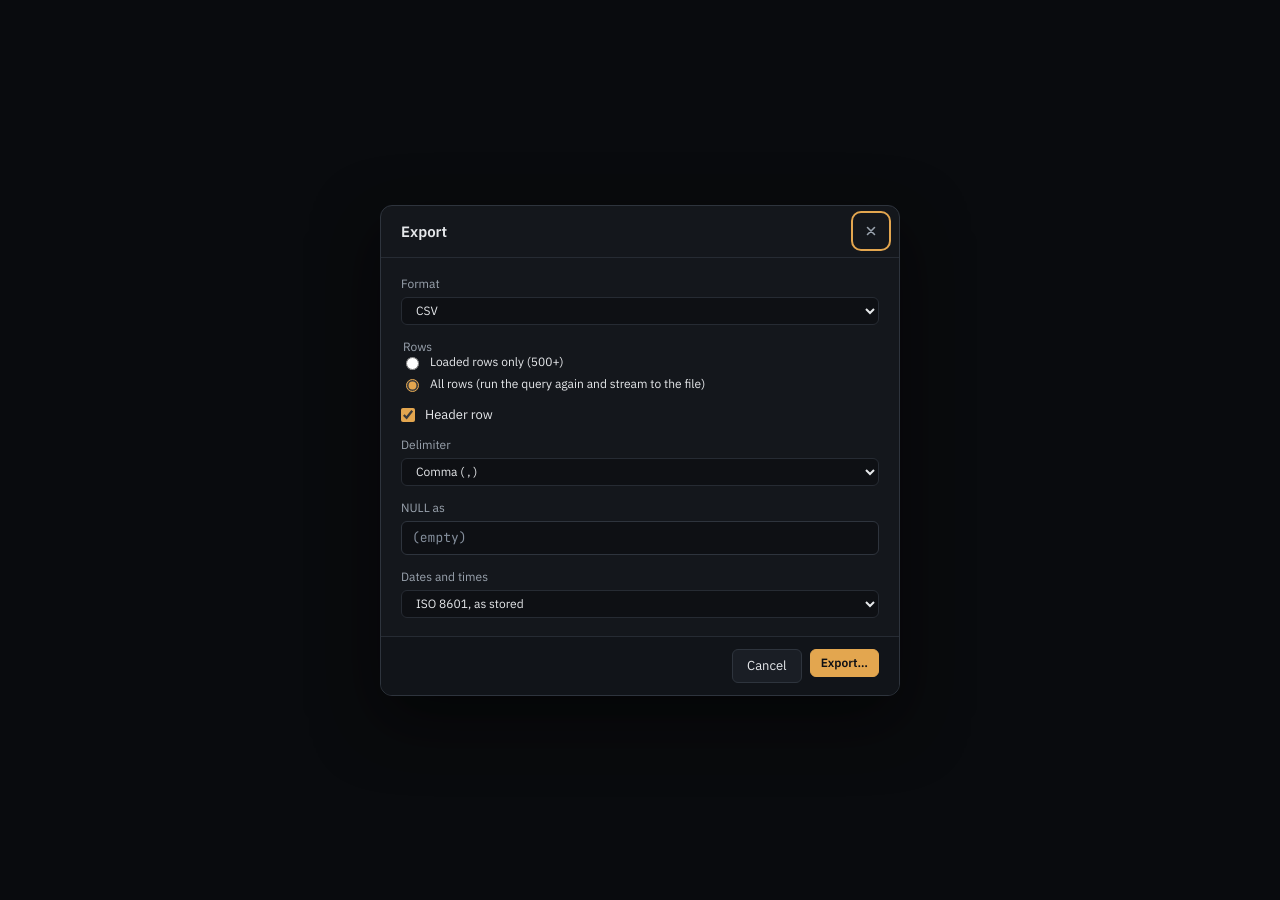
Test case: ExportDialog › shows only the options a format uses
Expected: the dropdown labelled "Delimiter" is shown, [401,458,879,486]
Select "TSV" in the dropdown labelled "Format" at (640, 310), box [401,296,879,324]
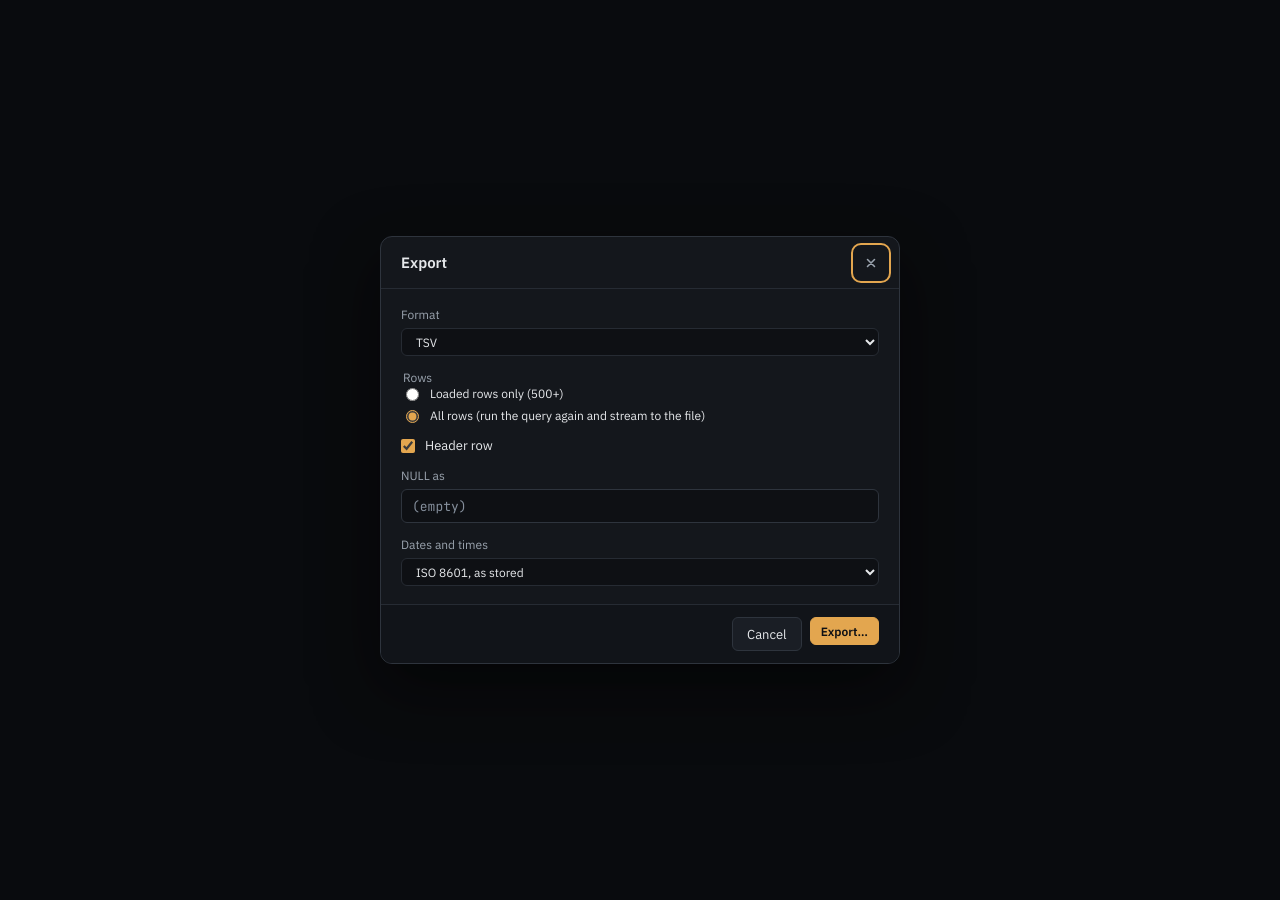
Expected: the checkbox labelled "Header row" is shown, [401,439,415,453]
Now the label labelled "Delimiter" is gone
Select "JSON (array)" in the dropdown labelled "Format" at (640, 342), box [401,328,879,356]
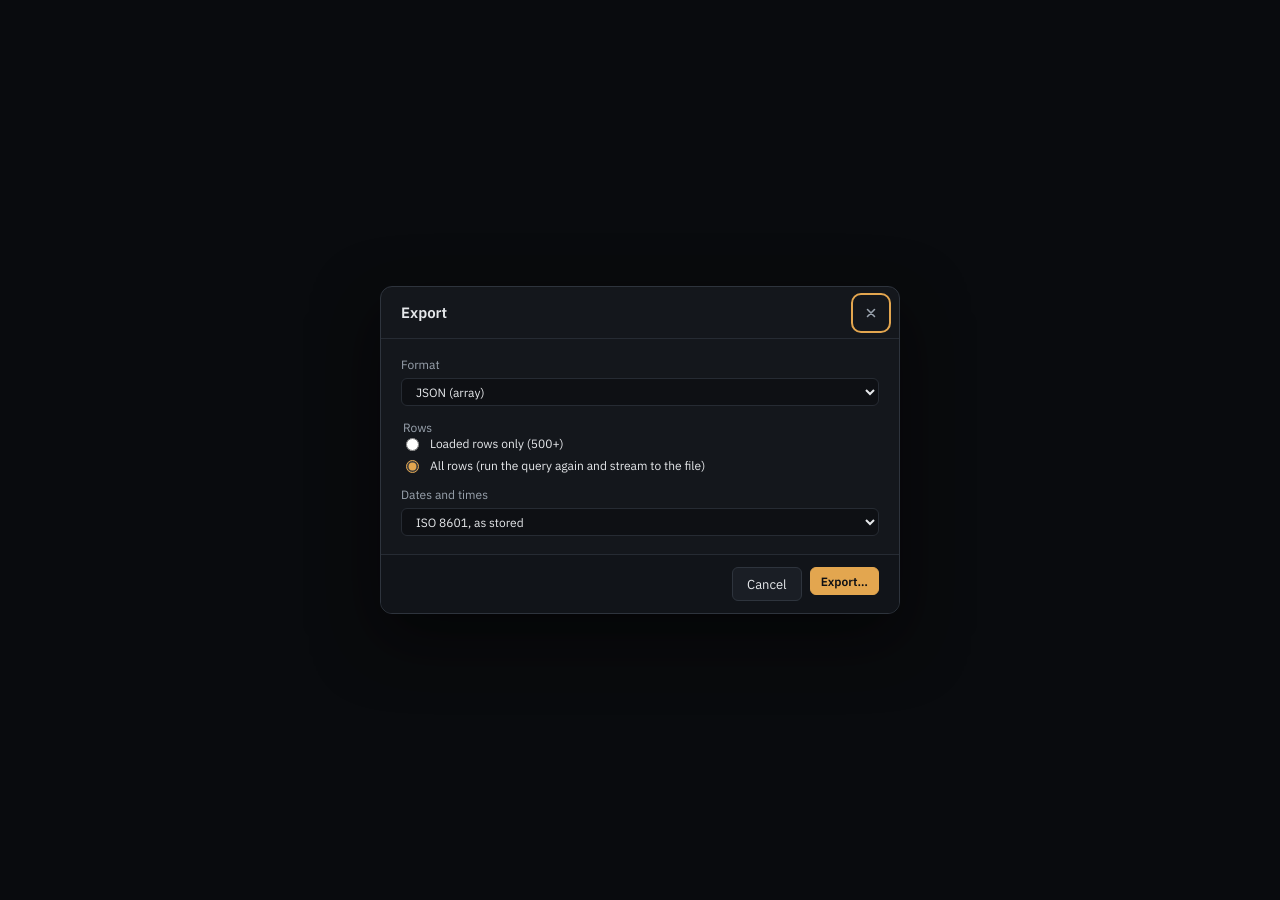
Now the text "Header row" is gone
Now the label labelled "NULL as" is gone
Select "Markdown table" in the dropdown labelled "Format" at (640, 392), box [401,378,879,406]
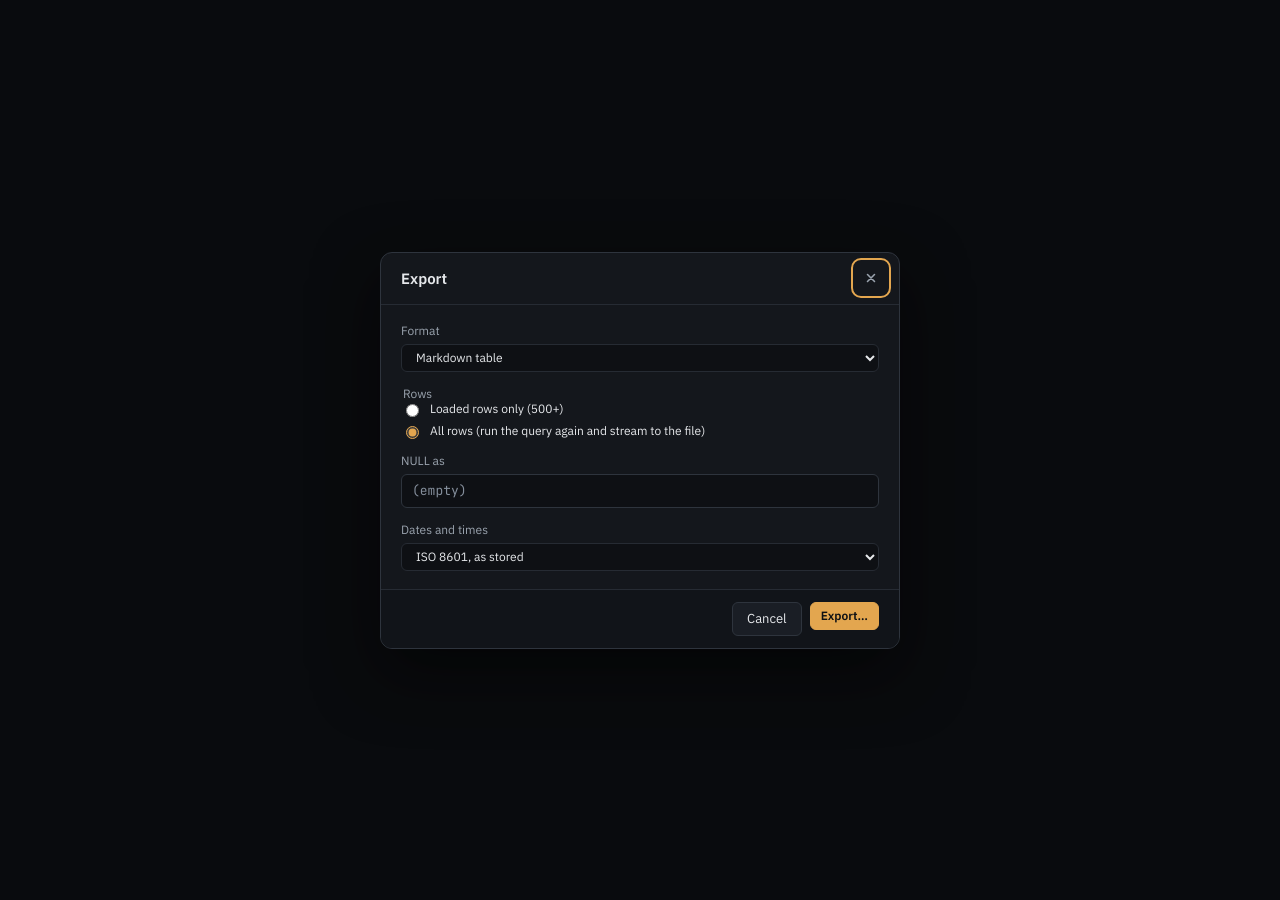
Now the field labelled "NULL as" is shown, box [401,474,879,508]
Select "SQL INSERT" in the dropdown labelled "Format" at (640, 358), box [401,344,879,372]
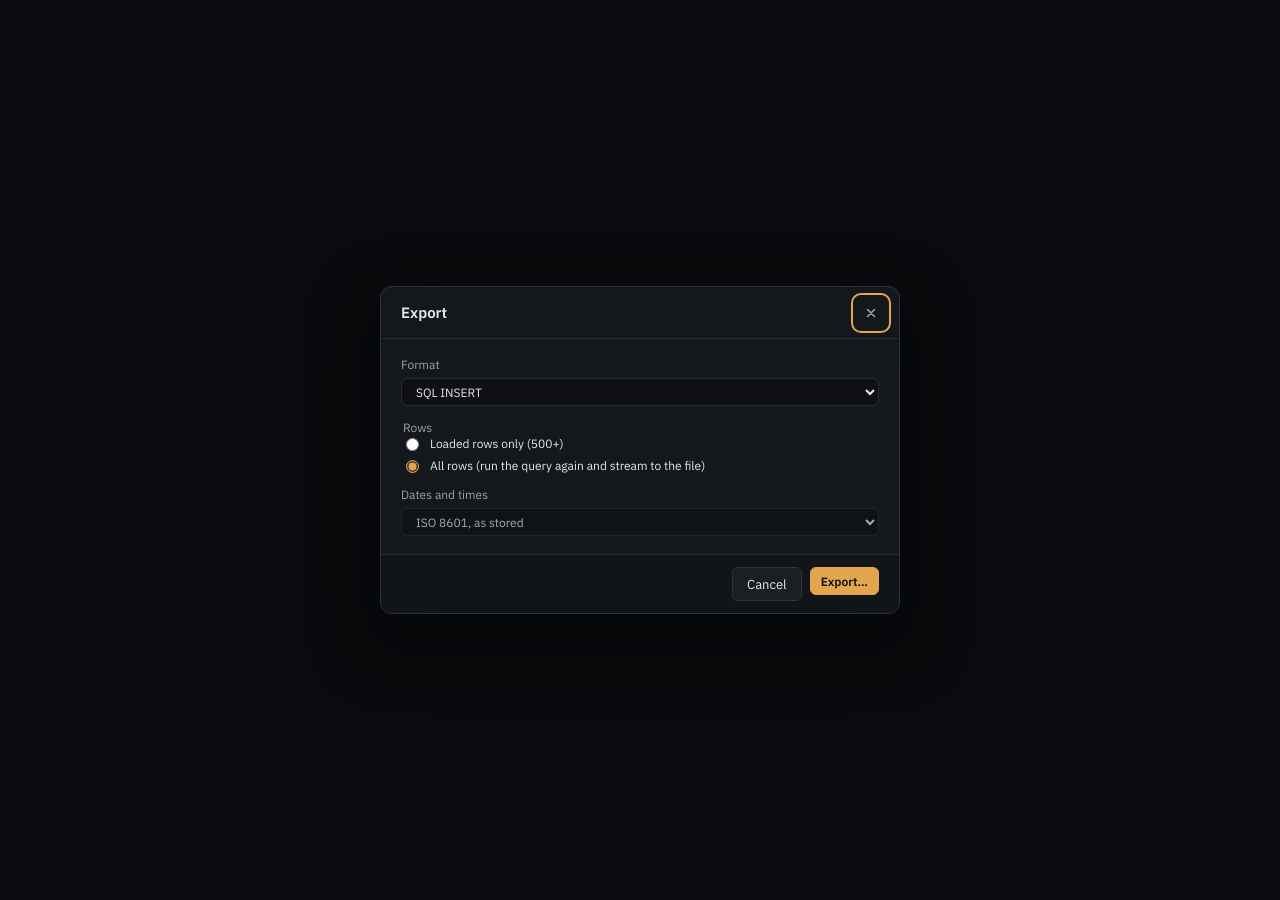
Now the dropdown labelled "Dates and times" is disabled, box [401,508,879,536]
